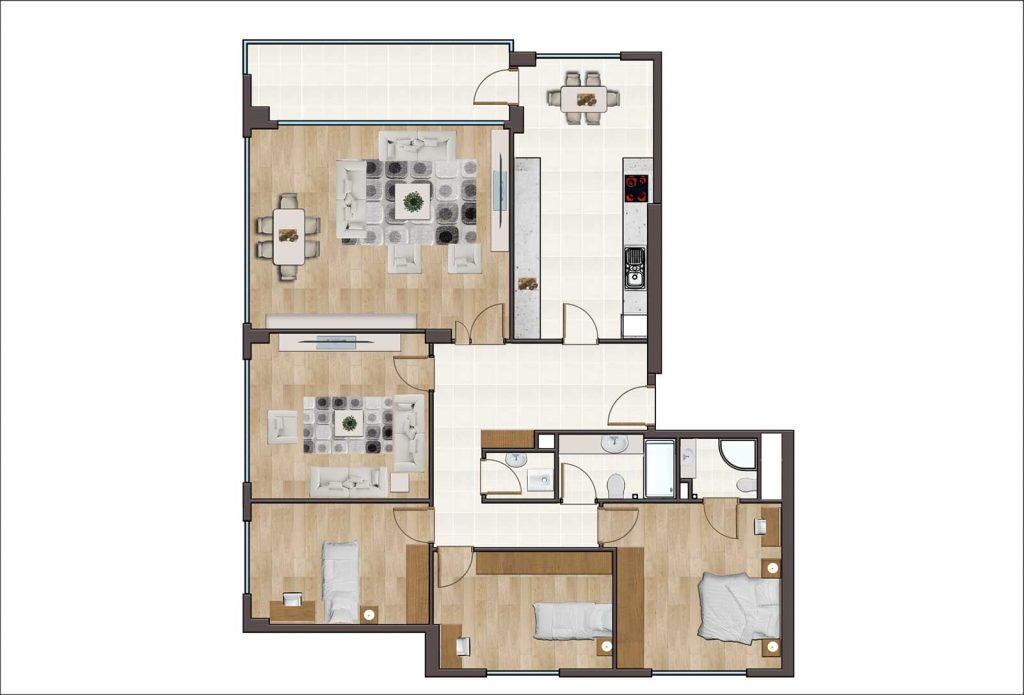balcony: (240, 36, 528, 135)
door: (557, 288, 604, 332), (452, 297, 508, 333), (467, 64, 506, 104), (436, 558, 475, 598), (704, 507, 743, 547), (601, 503, 640, 543), (606, 390, 645, 430), (389, 505, 428, 545), (386, 350, 425, 390), (488, 458, 522, 497)
room: (239, 117, 516, 342), (502, 46, 673, 344), (606, 428, 799, 679), (237, 322, 441, 506), (231, 494, 439, 636), (424, 542, 617, 684), (476, 421, 652, 509), (644, 430, 798, 506)
